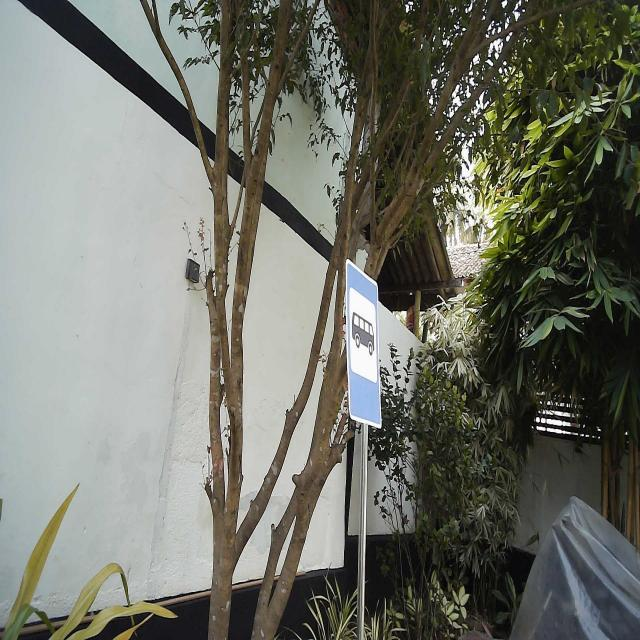bus_stop: (344, 256, 384, 430)
